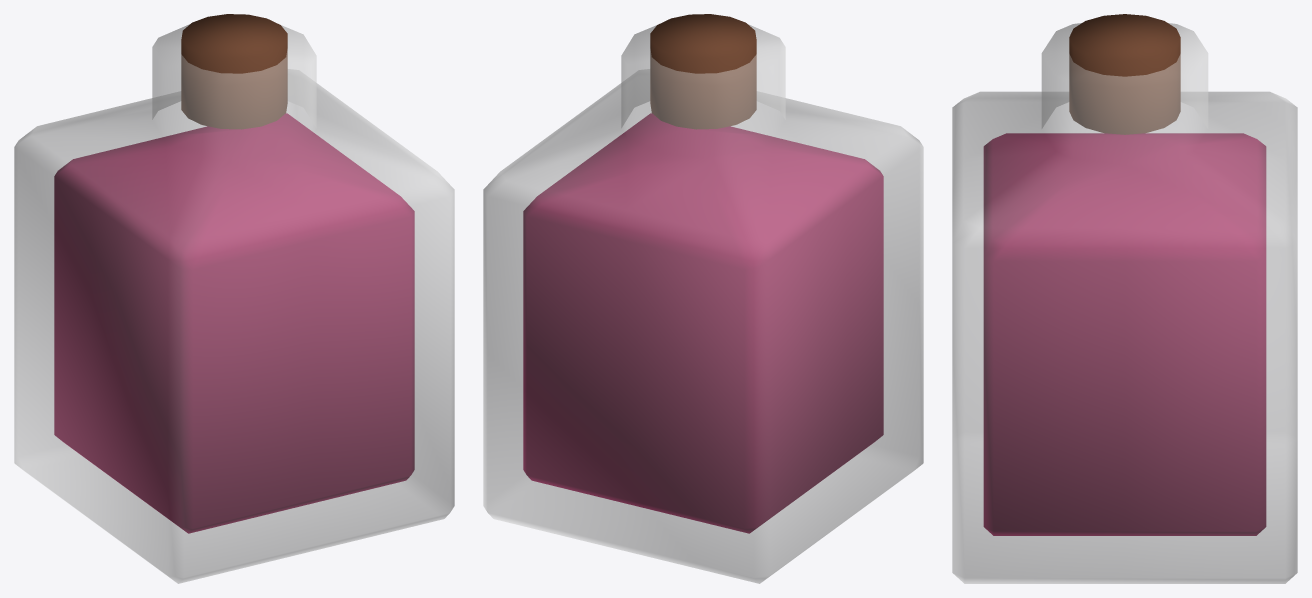
Rendered from SquarePotionClosed.fbx.
The picture shows the model from 3 angles, left to right: view 1: azimuth 30°, elevation 25°; view 2: azimuth 150°, elevation 25°; view 3: azimuth 270°, elevation 25°; orthographic projection. The views are drawn at different scales.
Parts seen in each view (by area): view 1: CubePotionClosed; view 2: CubePotionClosed; view 3: CubePotionClosed.
Boxes of the visible parts, x1,y1,x2,y2 form: CubePotionClosed: [14, 14, 454, 583]; CubePotionClosed: [483, 14, 923, 583]; CubePotionClosed: [952, 14, 1297, 583].
Size of the model in its own units: 146 by 222 by 146.
